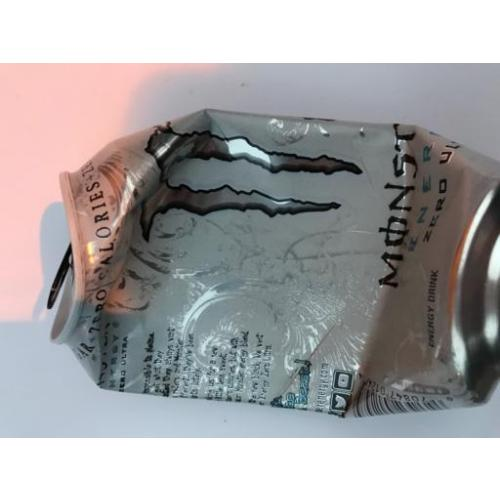metal: (48, 116, 499, 414)
